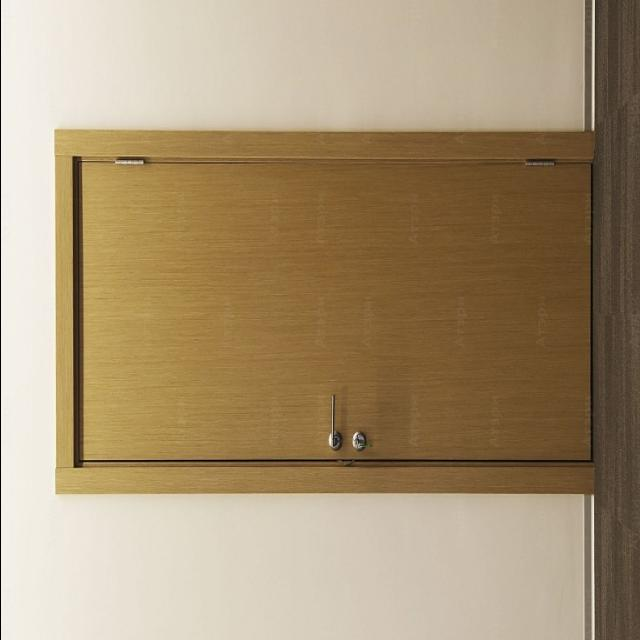close: (58, 128, 598, 492)
